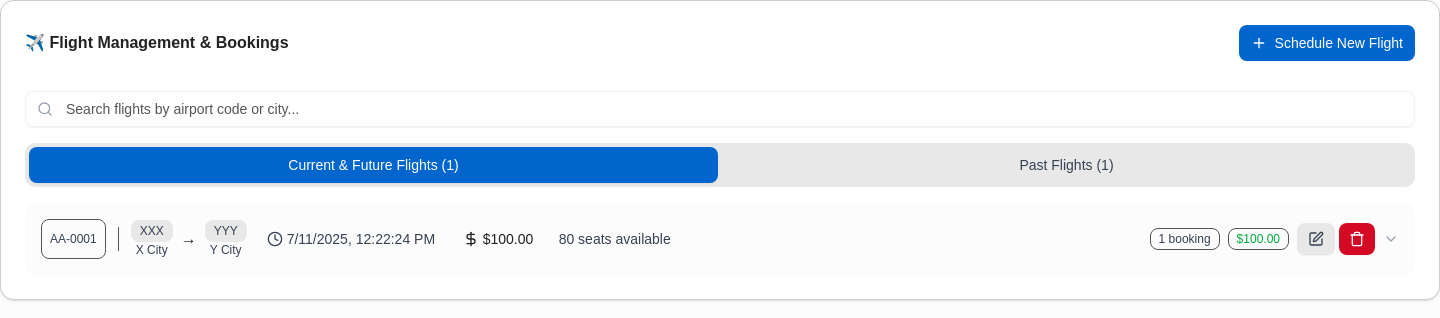
Test case: FlightManagement › shows past flights when past tab selected
This screenshot has width=1440, height=318.
Switch to Past tab
Click the button "Past Flights (1)". click: [1066, 165]
box: x1=722 y1=147 x2=1411 y2=183
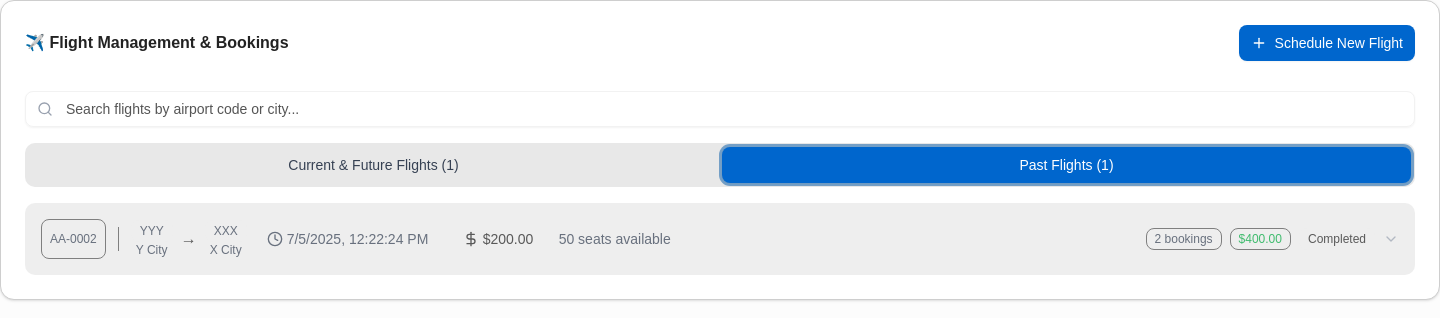
Now the text "AA-0002" is shown, box x1=41 y1=219 x2=106 y2=259
